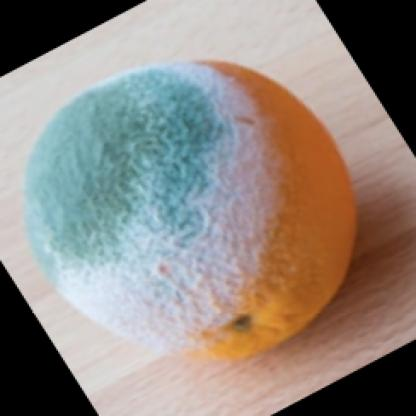rotten: (23, 62, 356, 362)
